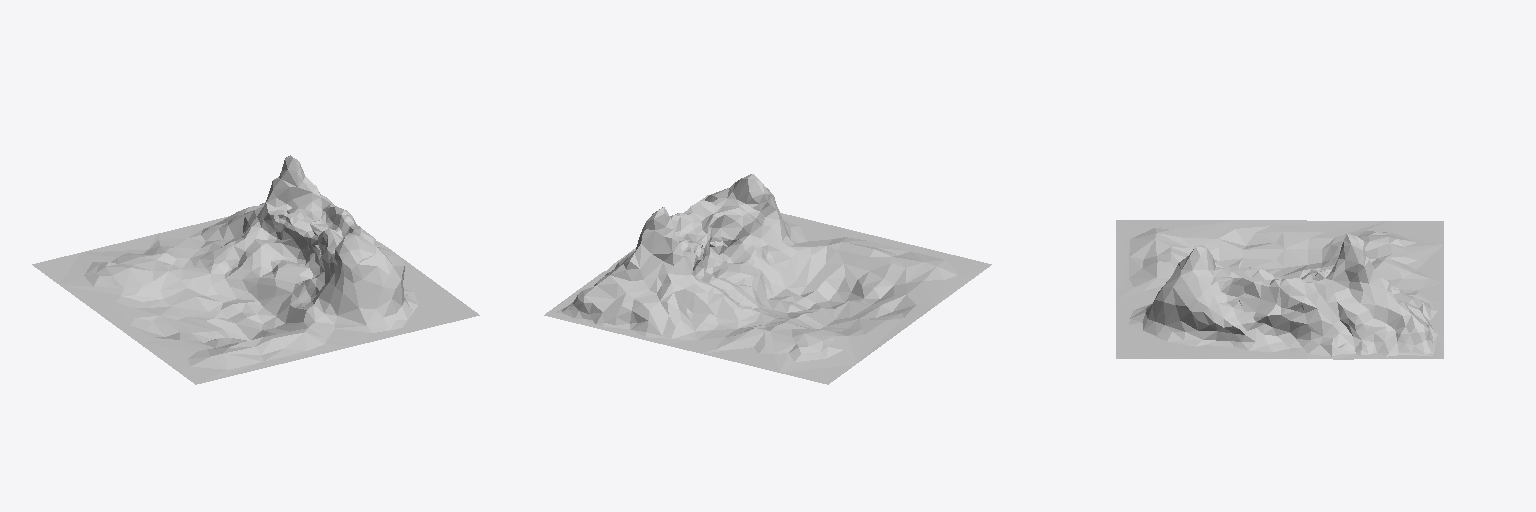
File: testtile0.obj
3 renders of one model, left to right at view 1: azimuth 30°, elevation 25°; view 2: azimuth 150°, elevation 25°; view 3: azimuth 270°, elevation 25°, orthographic.
Visible parts, largest first — view 1: Plane; view 2: Plane; view 3: Plane.
Boxes of the visible parts, x1=… form: Plane: x1=32, y1=155, x2=479, y2=384; Plane: x1=544, y1=174, x2=991, y2=384; Plane: x1=1116, y1=220, x2=1443, y2=359.
Bounding box in the file's own units: 500 × 191 × 500.